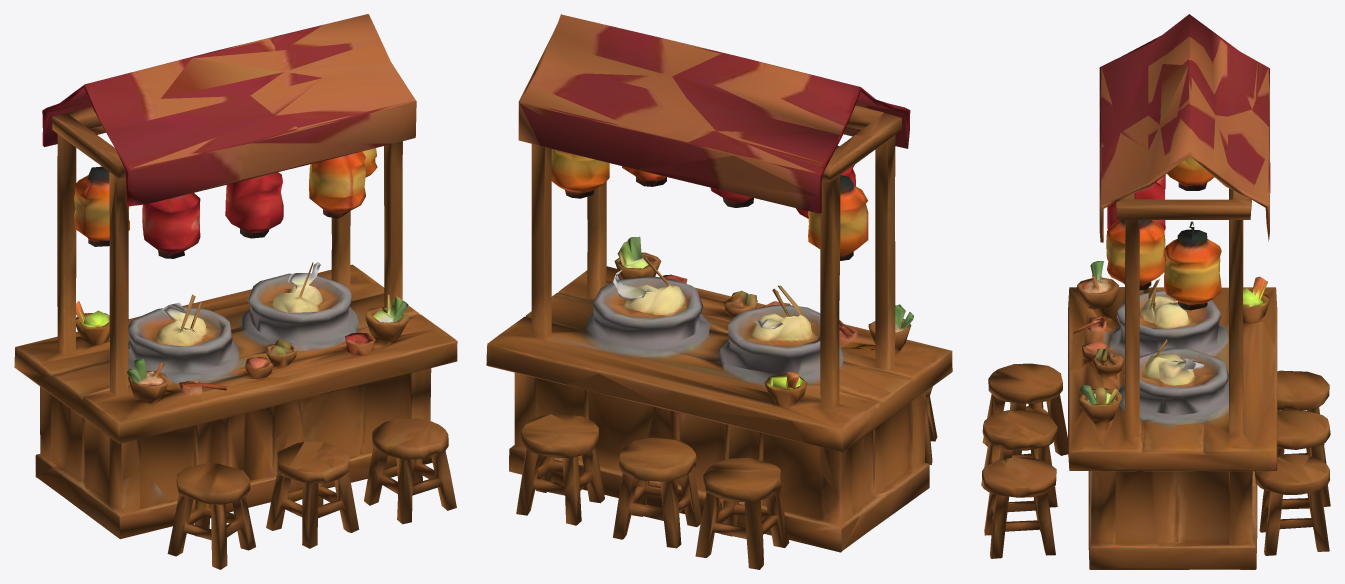
File: prop_lantern_stall.glb
3 renders of one model, left to right at view 1: azimuth 30°, elevation 25°; view 2: azimuth 150°, elevation 25°; view 3: azimuth 270°, elevation 25°, orthographic. The views are drawn at different scales.
Visible parts, largest first — view 1: tripo_node_ca70bf5a-4d39-407b-8f83-9af805d9469d; view 2: tripo_node_ca70bf5a-4d39-407b-8f83-9af805d9469d; view 3: tripo_node_ca70bf5a-4d39-407b-8f83-9af805d9469d.
Part boxes in pixels (x1,y1,x2,y2): tripo_node_ca70bf5a-4d39-407b-8f83-9af805d9469d: (14,14,457,569); tripo_node_ca70bf5a-4d39-407b-8f83-9af805d9469d: (486,14,952,569); tripo_node_ca70bf5a-4d39-407b-8f83-9af805d9469d: (981,14,1330,569).
Size of the model in its own units: 0.8349 by 0.9785 by 0.749.
Materials: 1 (1 with a texture image).
